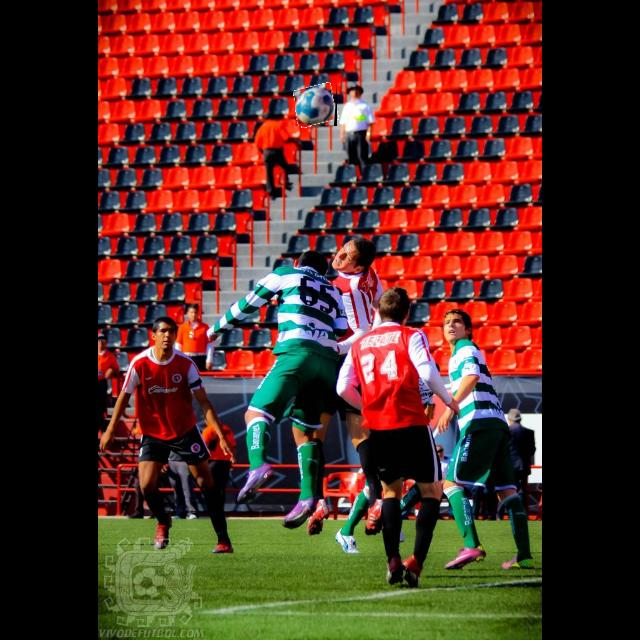Football: (295, 84, 337, 126)
